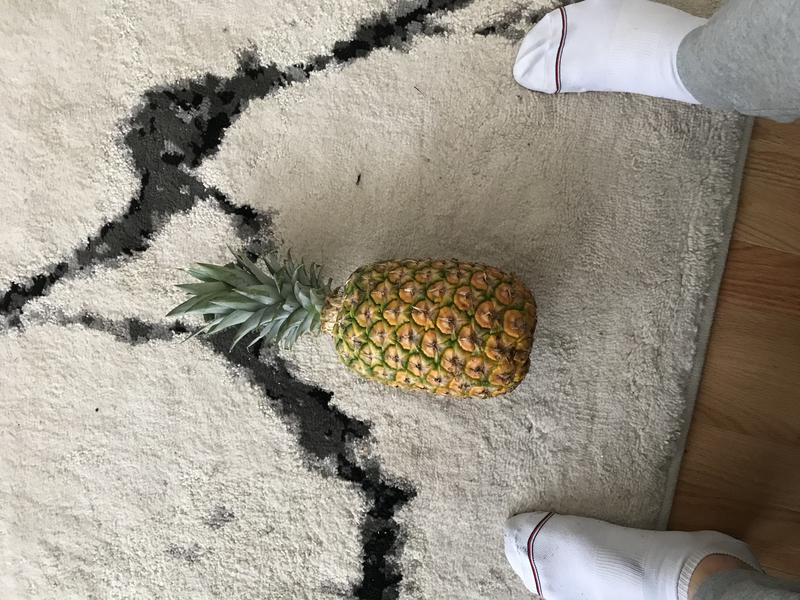pineapple: (166, 233, 545, 410)
